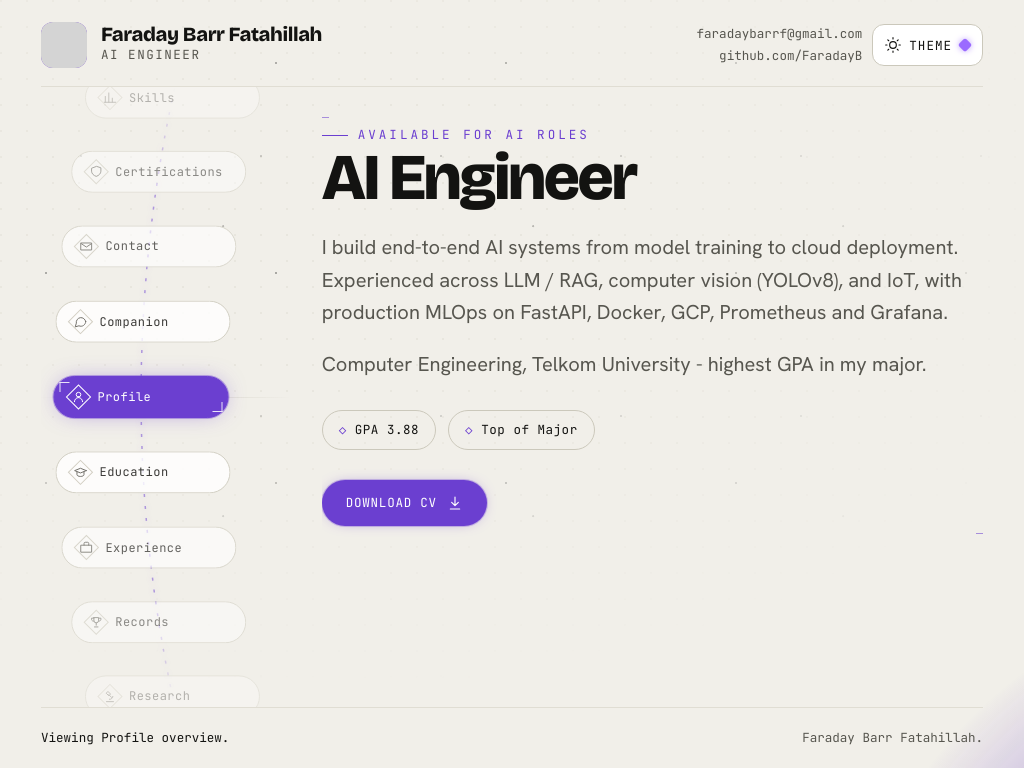
Scenario: App navigation › switches sections on click and updates the footer hint
Click the button "Experience" at x=149, y=548, box x1=61 y1=526 x2=236 y2=568
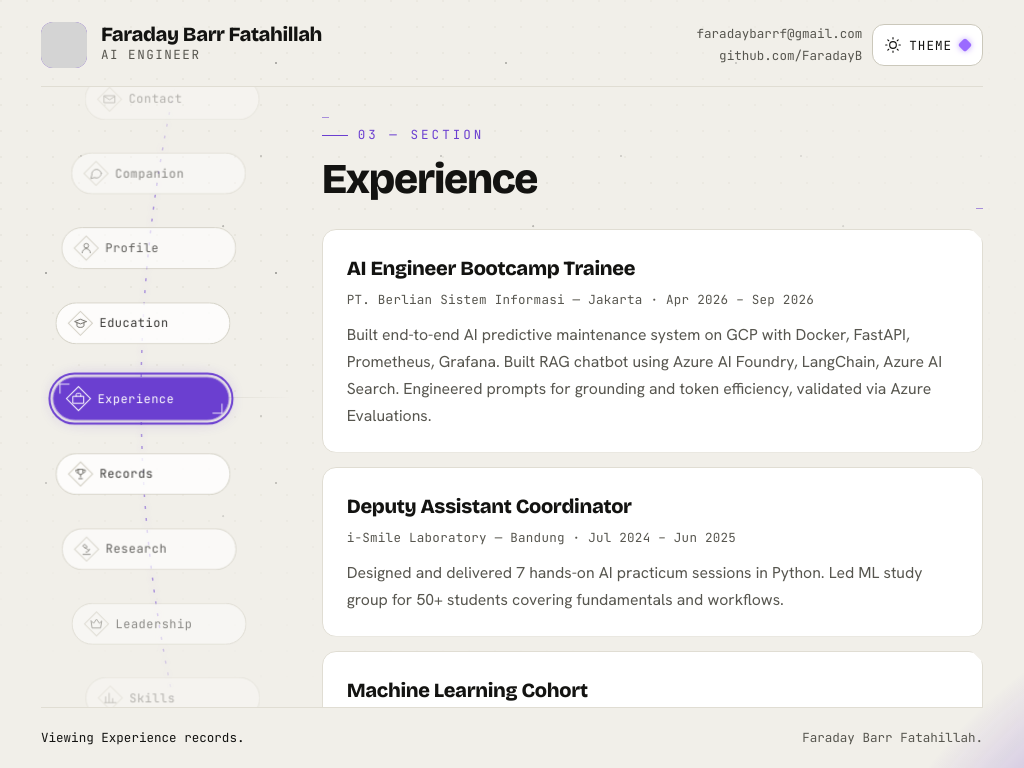
Expected: the text "Viewing Experience records." is shown, x1=41 y1=728 x2=244 y2=748
Expected: the text "AI Engineer Bootcamp Trainee" is shown, x1=347 y1=256 x2=635 y2=280
